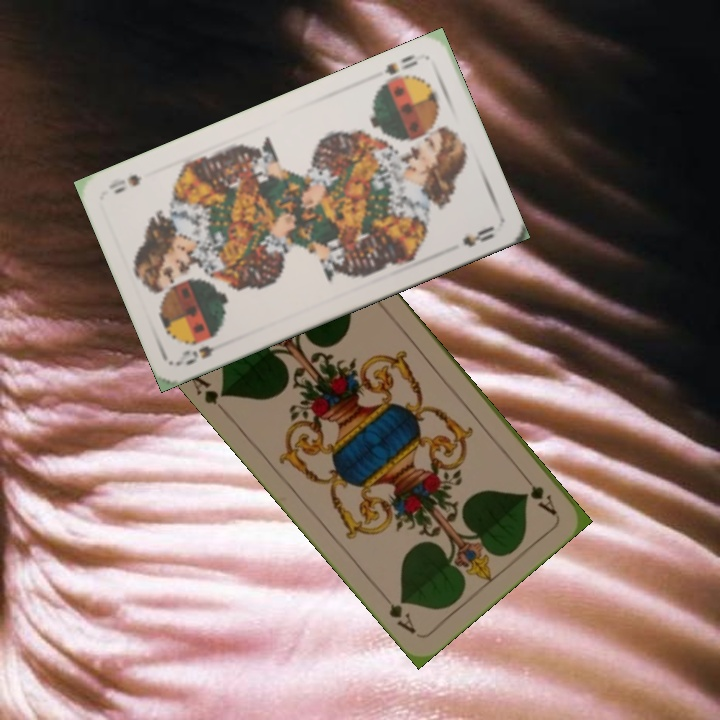GA: (517, 469, 560, 518), (185, 369, 230, 408)
SO: (381, 50, 421, 78), (175, 341, 216, 368)
